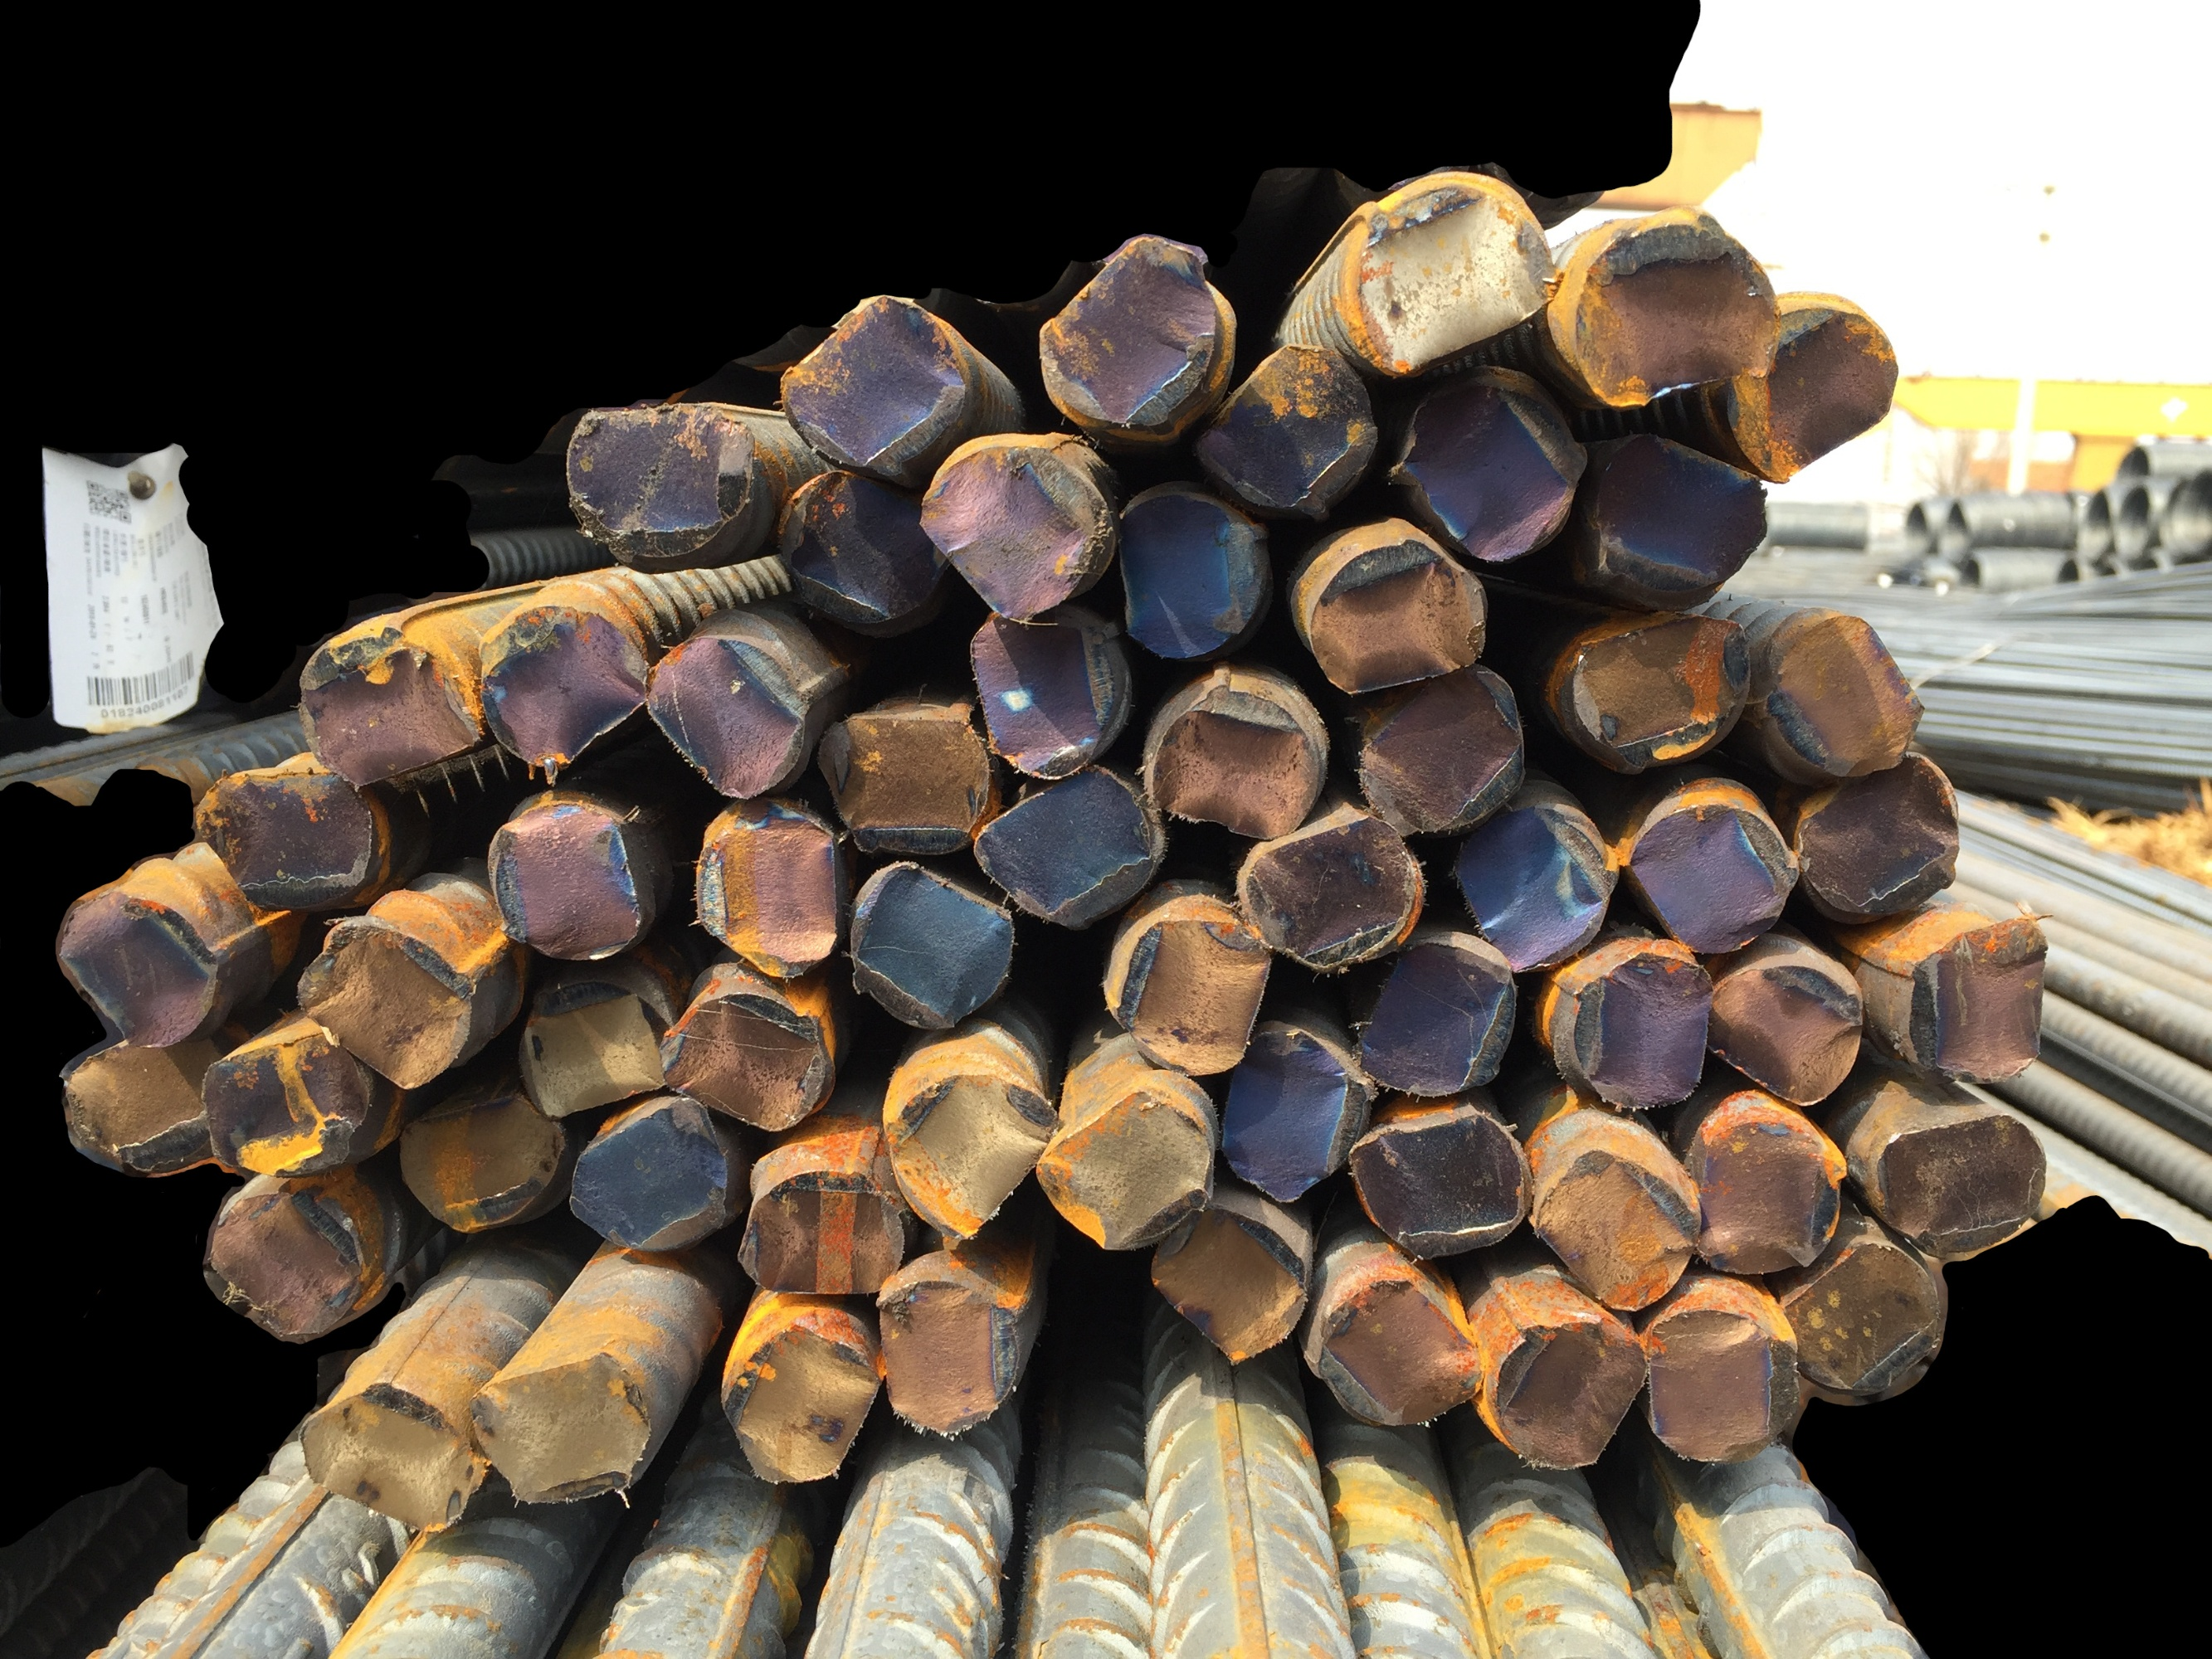rebar: (1553, 211, 1788, 415), (1332, 171, 1557, 376), (1030, 228, 1236, 439), (769, 286, 978, 479), (913, 427, 1114, 624), (1384, 373, 1590, 559), (558, 392, 769, 572), (284, 910, 485, 1096), (1030, 1080, 1231, 1265), (1581, 422, 1780, 606), (1295, 521, 1497, 699), (467, 1349, 662, 1530), (1733, 286, 1903, 491), (877, 1063, 1067, 1248), (188, 1166, 380, 1349), (1295, 1258, 1487, 1439), (1196, 335, 1382, 519), (964, 760, 1166, 929), (1135, 1190, 1327, 1368), (1551, 603, 1754, 770), (1766, 1234, 1951, 1417), (1340, 1096, 1532, 1270), (181, 762, 390, 920), (1353, 653, 1527, 843), (44, 878, 221, 1063), (837, 861, 1021, 1039), (1140, 674, 1328, 849), (289, 620, 483, 789), (1614, 784, 1799, 958), (1888, 904, 2059, 1093), (1229, 803, 1421, 971), (772, 464, 953, 640), (1096, 904, 1278, 1080), (479, 788, 654, 971), (628, 633, 812, 805), (1762, 598, 1933, 784), (689, 796, 854, 988), (1351, 927, 1522, 1112), (286, 1377, 485, 1535), (1103, 474, 1265, 667), (1680, 1108, 1855, 1288), (967, 605, 1138, 788), (472, 601, 657, 770), (1473, 1309, 1649, 1485), (1792, 742, 1966, 920), (1642, 1295, 1813, 1474), (718, 1314, 882, 1500), (1208, 1012, 1363, 1209), (1551, 936, 1717, 1119), (1529, 1136, 1701, 1309), (1454, 793, 1621, 971), (200, 1021, 385, 1178), (655, 979, 837, 1138), (396, 1087, 579, 1244), (565, 1098, 739, 1262), (865, 1274, 1028, 1446), (506, 955, 683, 1114), (727, 1162, 917, 1309), (816, 695, 997, 847), (1700, 950, 1870, 1110), (52, 1028, 234, 1178), (1870, 1110, 2052, 1260)
